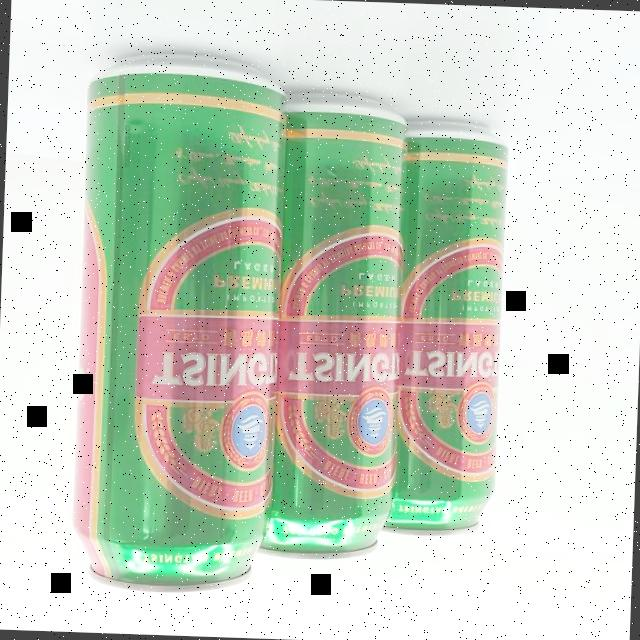can: (68, 49, 288, 597), (222, 89, 410, 563), (346, 117, 510, 539)
